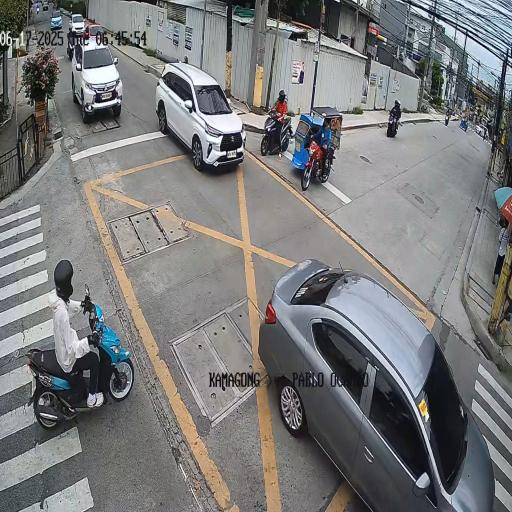Car: (242, 242, 463, 512), (157, 38, 244, 191), (65, 28, 139, 138)
Motor: (16, 240, 140, 416), (258, 85, 289, 176), (299, 142, 339, 194), (384, 105, 411, 153)
